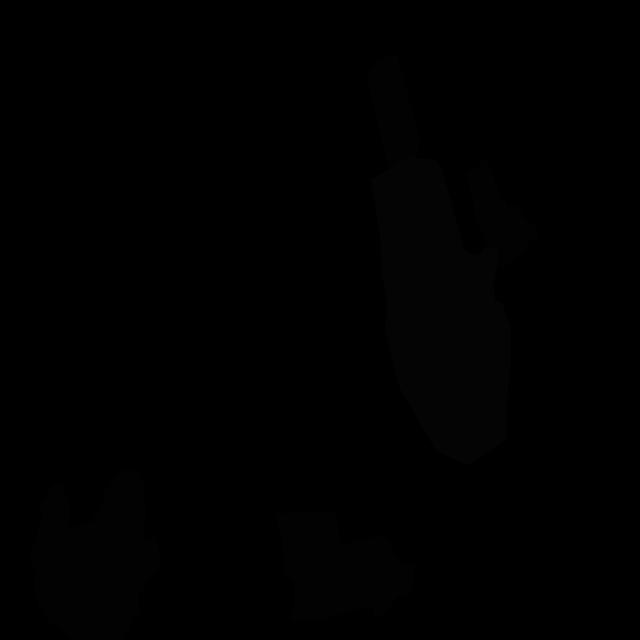cardboard: (28, 469, 161, 640), (273, 511, 415, 622), (466, 159, 538, 268), (366, 55, 421, 169)
soft_plastic: (371, 156, 510, 465)
